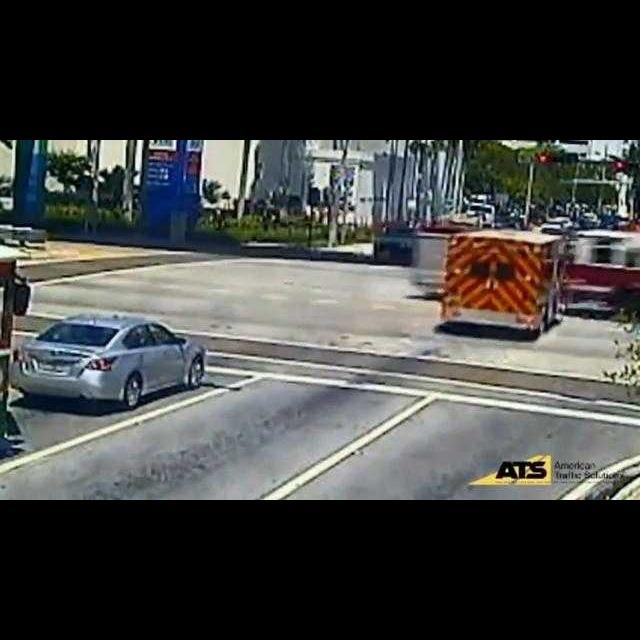emergency: (440, 230, 570, 336)
